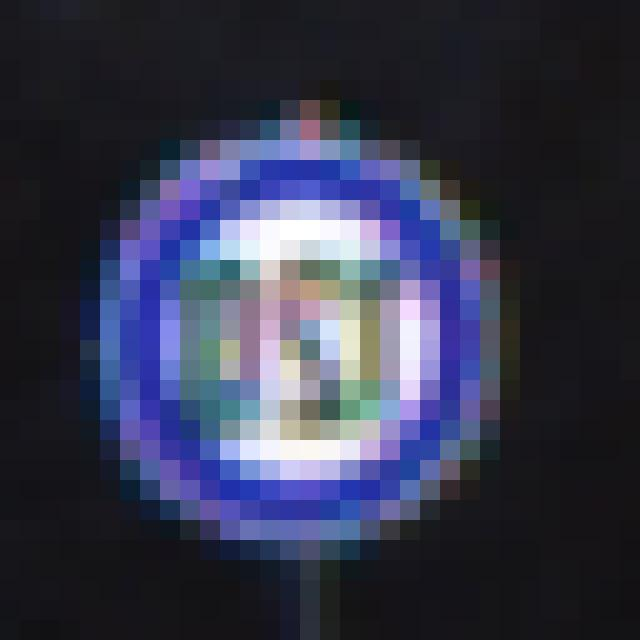SPEED LIMIT 120: (92, 115, 512, 548)
